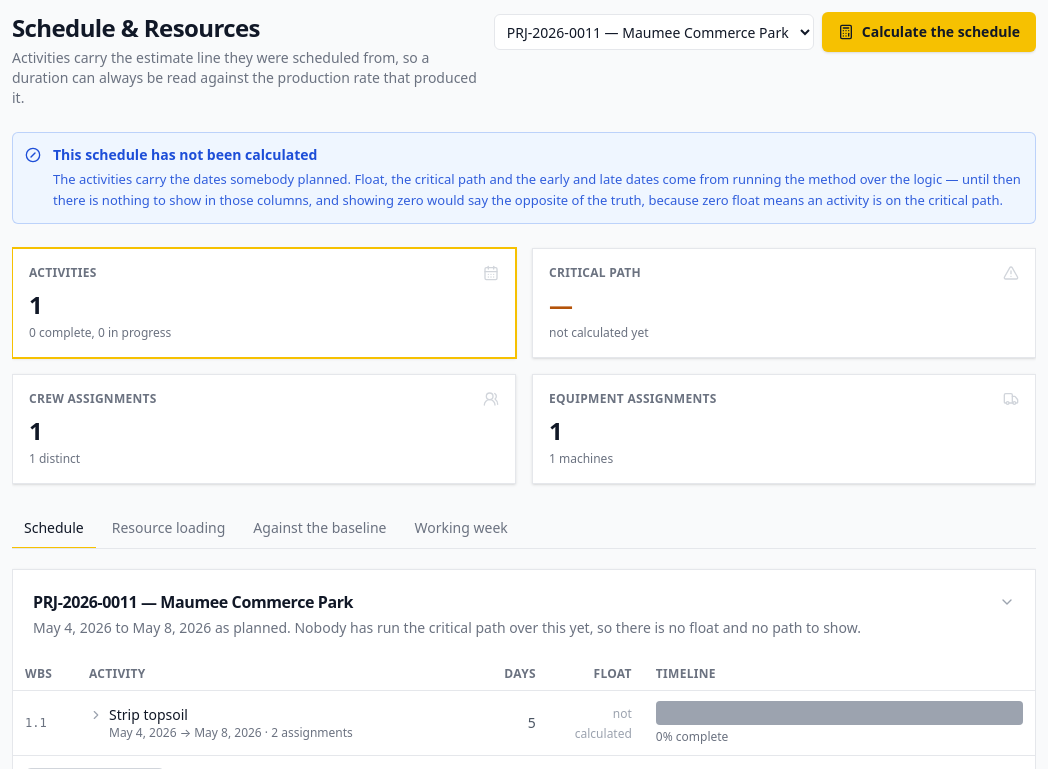
Test: resource loading › shows the fraction of a machine an assignment consumes
The image size is (1048, 769).
Click the tab "Resource loading". click: (168, 528)
box: [100,508,237,548]
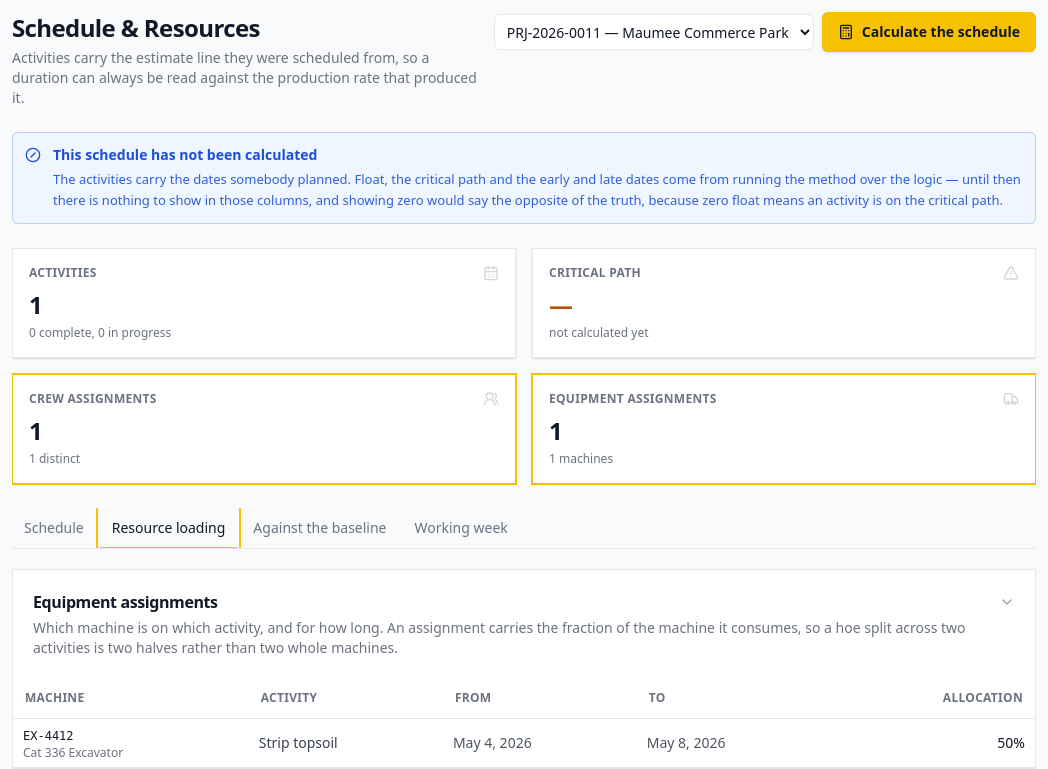
Result: the text "50%" is shown at [830,718,1035,767]
